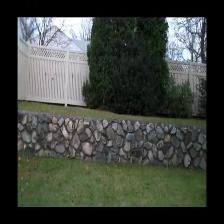fire: (162, 17, 203, 65)
